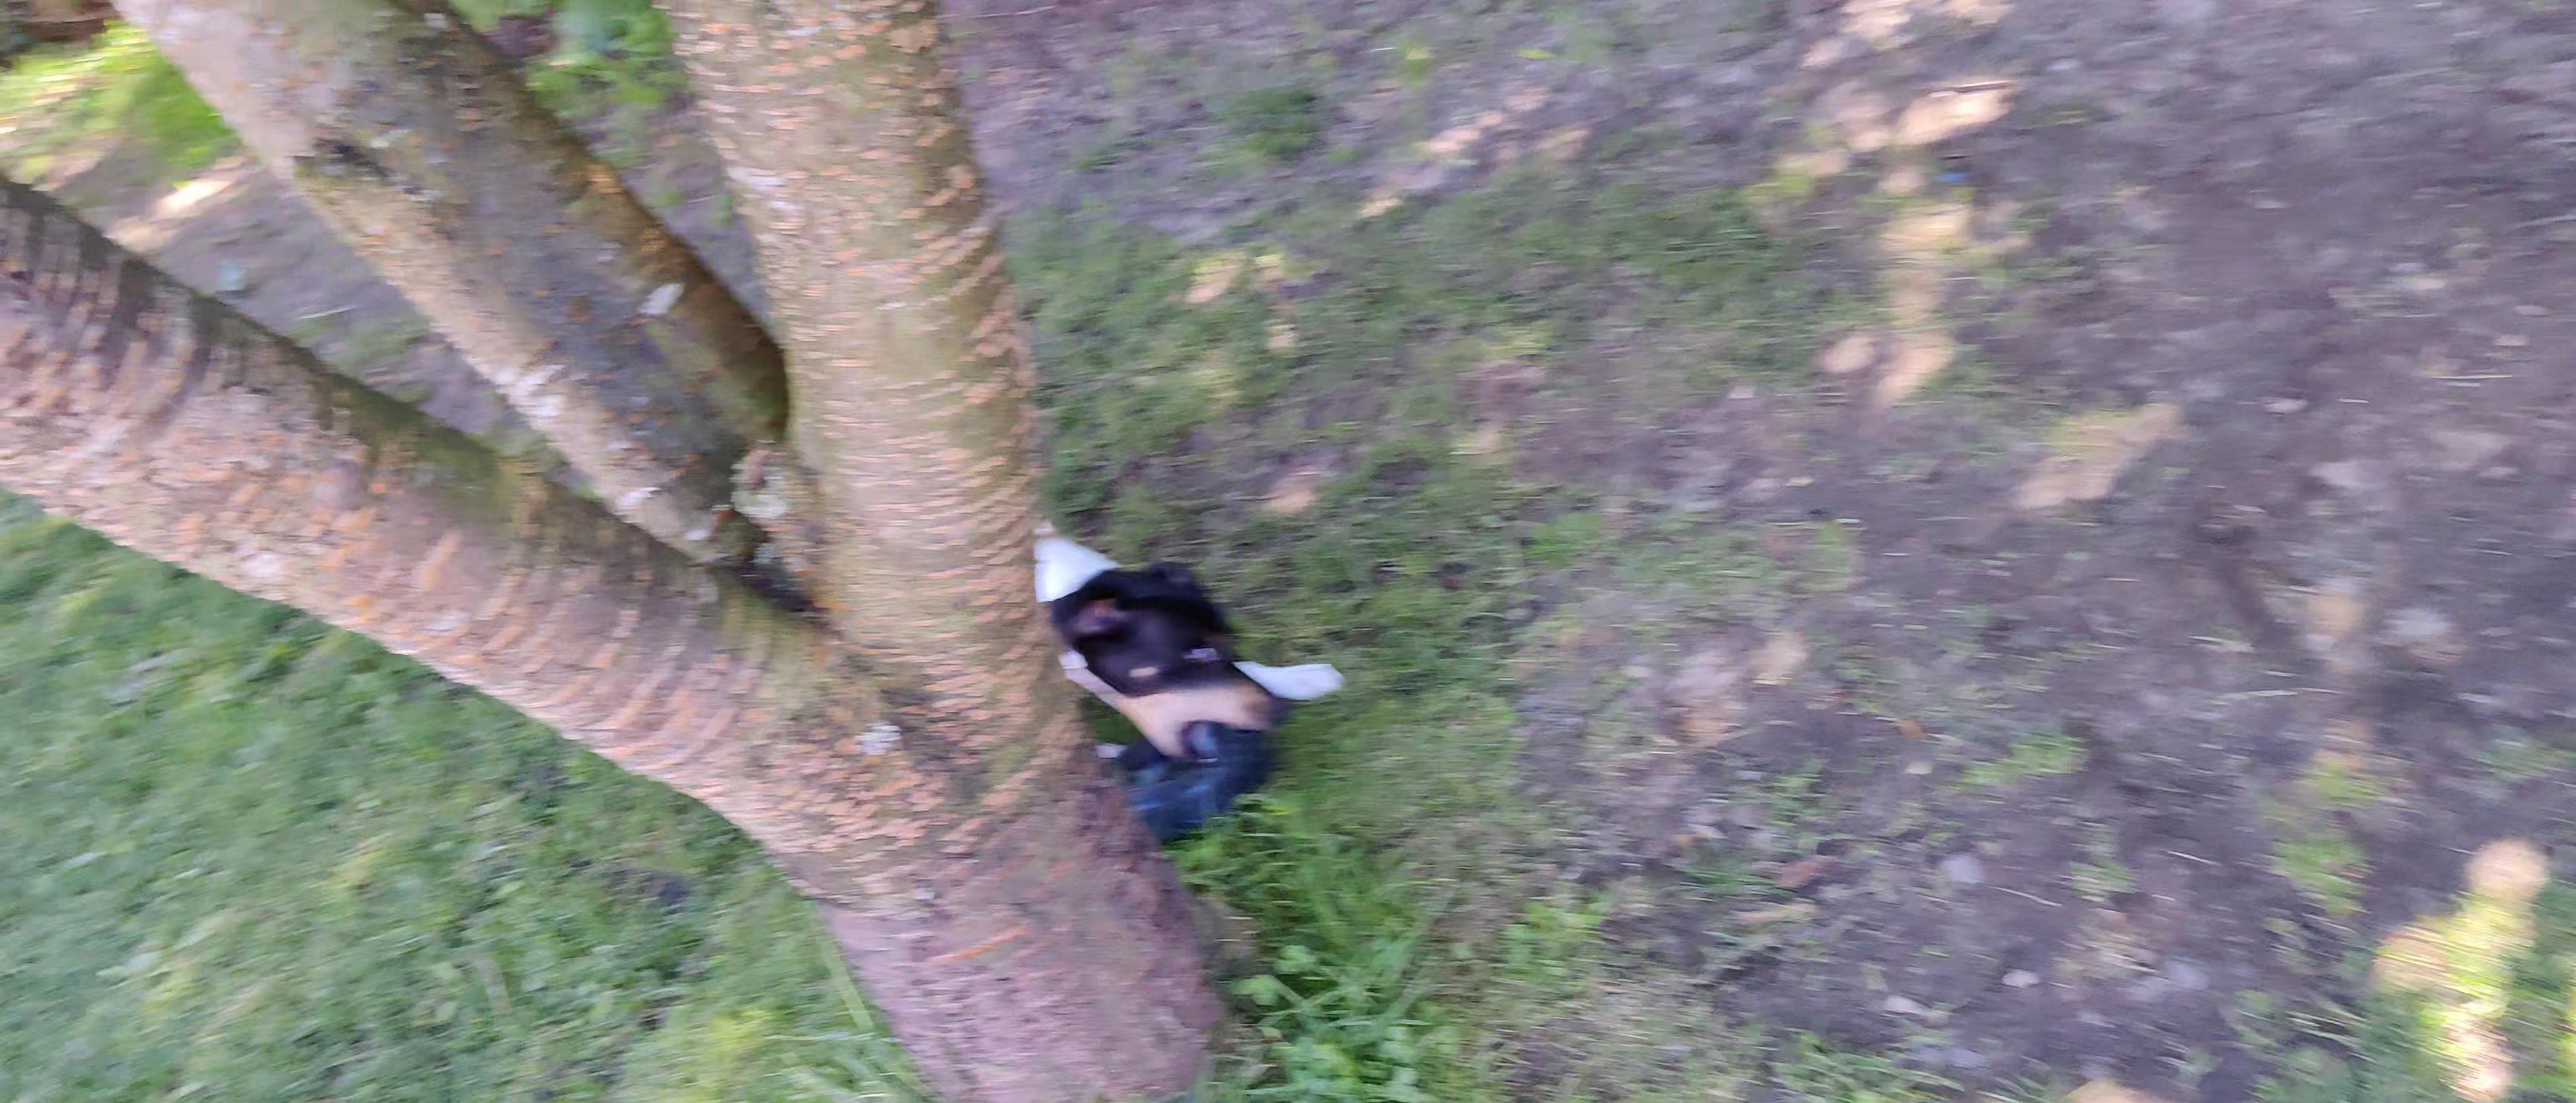Dog: (974, 472, 1360, 774)
